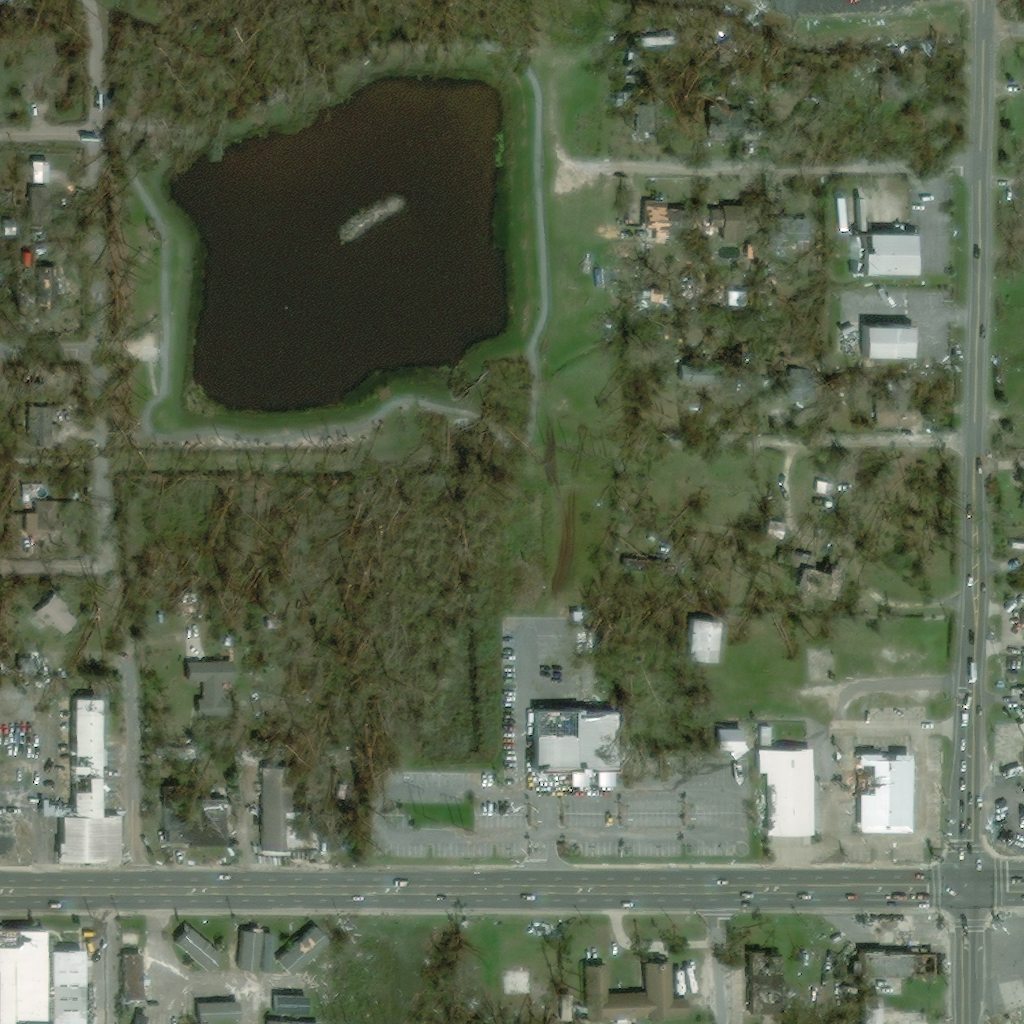destroyed: (178, 599, 196, 621)
major_damage: (40, 698, 121, 863), (0, 929, 85, 1023), (527, 692, 619, 775), (856, 754, 913, 834), (846, 232, 917, 276), (622, 201, 680, 239)
minor_damage: (163, 779, 227, 848), (749, 955, 782, 1017), (860, 952, 932, 980), (123, 954, 151, 1001), (880, 70, 909, 98)
no_damage: (584, 958, 702, 1020), (756, 748, 813, 837), (260, 768, 317, 852), (173, 926, 222, 971), (856, 324, 916, 360), (865, 995, 934, 1023), (185, 660, 236, 696), (33, 595, 74, 633), (685, 622, 721, 662), (197, 994, 242, 1023), (770, 216, 809, 241), (267, 991, 310, 1011), (769, 374, 799, 401), (715, 730, 742, 754), (229, 932, 243, 978), (245, 933, 258, 979), (848, 198, 866, 229), (125, 1005, 155, 1023), (260, 937, 274, 975), (32, 162, 55, 184), (760, 729, 775, 747), (268, 621, 282, 630)
